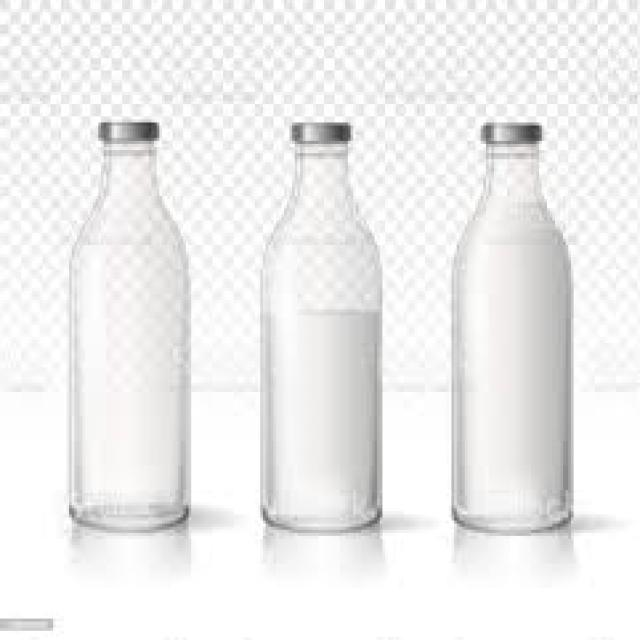glass: (446, 138, 568, 530), (258, 141, 380, 530), (64, 138, 186, 527)
metal: (478, 116, 539, 144), (290, 119, 346, 144), (98, 116, 154, 132)
